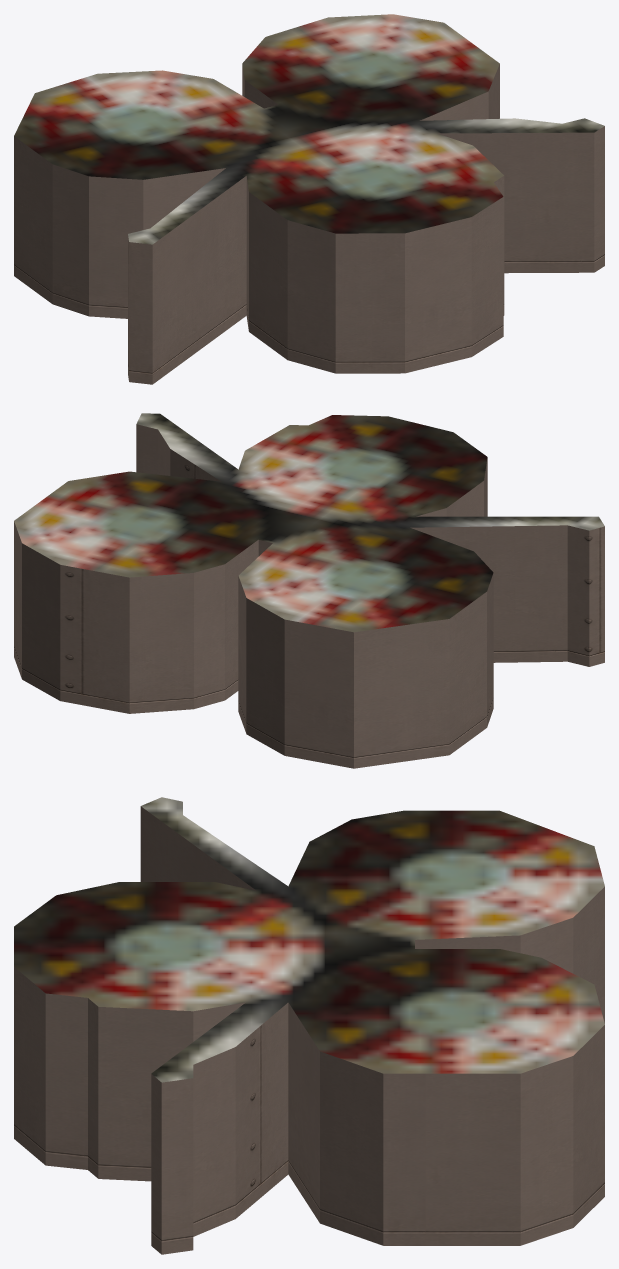
File: fuel_tank_hard_20.glb
3 renders of one model, top to bottom at view 1: azimuth 30°, elevation 25°; view 2: azimuth 150°, elevation 25°; view 3: azimuth 270°, elevation 25°, orthographic. The views are drawn at different scales.
Parts seen in each view (by area): view 1: buildings/saxarba/fuel_tanks/fuel_tank_hard_20; view 2: buildings/saxarba/fuel_tanks/fuel_tank_hard_20; view 3: buildings/saxarba/fuel_tanks/fuel_tank_hard_20.
Part boxes in pixels (x1,y1,x2,y2): buildings/saxarba/fuel_tanks/fuel_tank_hard_20: (14, 14, 604, 384); buildings/saxarba/fuel_tanks/fuel_tank_hard_20: (14, 413, 604, 768); buildings/saxarba/fuel_tanks/fuel_tank_hard_20: (14, 797, 604, 1254).
Size of the model in its own units: 64 by 18 by 56.
